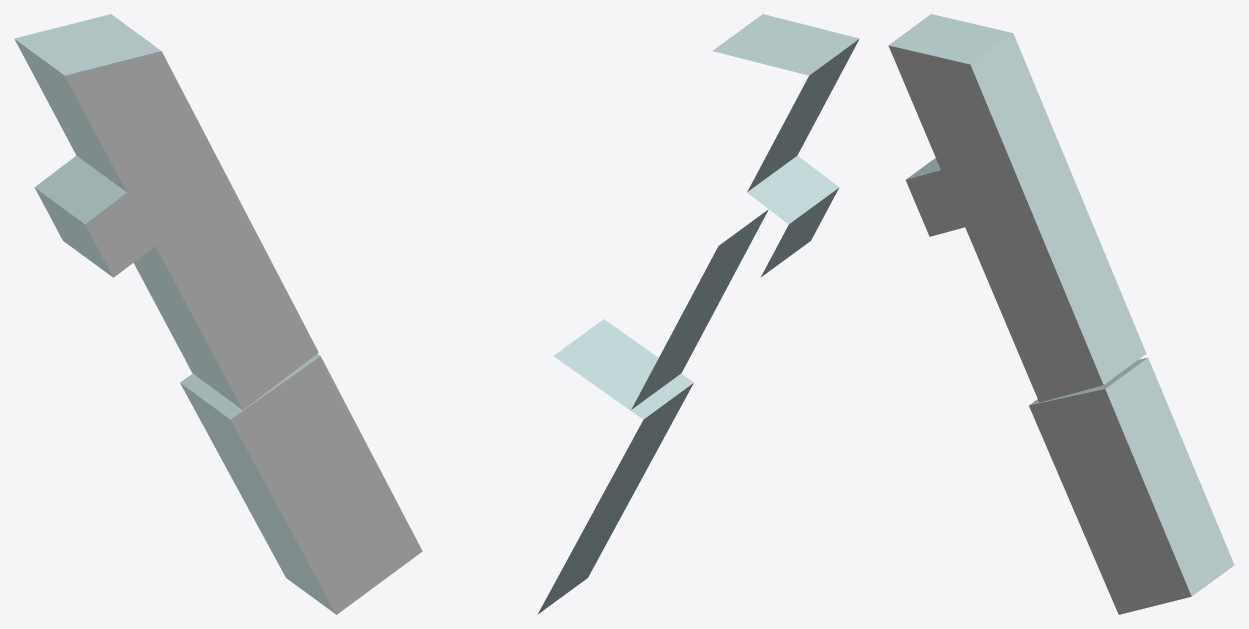
3 views of the same model, side by side, from view 1: azimuth 30°, elevation 25°; view 2: azimuth 150°, elevation 25°; view 3: azimuth 330°, elevation 25° (orthographic). The views are drawn at different scales.
Parts seen in each view (by area): view 1: 0_1_1_2_3_0_0_3_2; view 2: 0_1_1_2_3_0_0_3_2; view 3: 0_1_1_2_3_0_0_3_2.
Part boxes in pixels (x1=…): 0_1_1_2_3_0_0_3_2: x1=14, y1=14, x2=422, y2=614; 0_1_1_2_3_0_0_3_2: x1=537, y1=14, x2=859, y2=614; 0_1_1_2_3_0_0_3_2: x1=888, y1=14, x2=1234, y2=614.
Bounding box in the file's own units: 12.25 × 19.83 × 3.
